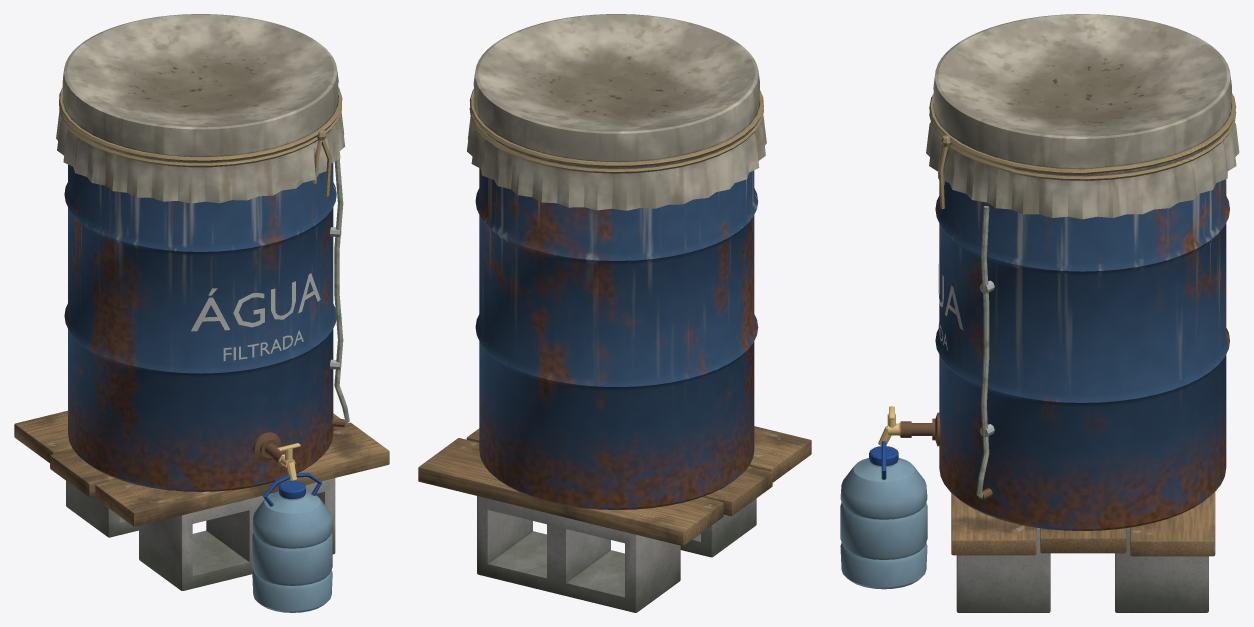
Rendered from filtro_barril.glb.
3 renders of one model, left to right at view 1: azimuth 30°, elevation 25°; view 2: azimuth 150°, elevation 25°; view 3: azimuth 270°, elevation 25°, orthographic. The views are drawn at different scales.
Parts seen in each view (by area): view 1: tambor, pano, estrado, galao, torneira, letreiro; view 2: tambor, pano, estrado; view 3: tambor, pano, estrado, galao, torneira.
Part boxes in pixels (x1=…): tambor: x1=64, y1=162, x2=336, y2=491; pano: x1=56, y1=14, x2=345, y2=203; estrado: x1=14, y1=410, x2=389, y2=590; galao: x1=252, y1=472, x2=332, y2=612; torneira: x1=253, y1=159, x2=349, y2=480; letreiro: x1=191, y1=273, x2=320, y2=361; tambor: x1=475, y1=168, x2=758, y2=509; pano: x1=467, y1=14, x2=766, y2=210; estrado: x1=418, y1=426, x2=811, y2=612; tambor: x1=935, y1=179, x2=1229, y2=530; pano: x1=926, y1=14, x2=1239, y2=219; estrado: x1=951, y1=492, x2=1215, y2=612; galao: x1=840, y1=441, x2=927, y2=589; torneira: x1=878, y1=206, x2=994, y2=500.
Size of the model in its own units: 0.661 by 1.11 by 0.807.
Materials: 2 (2 with a texture image).
